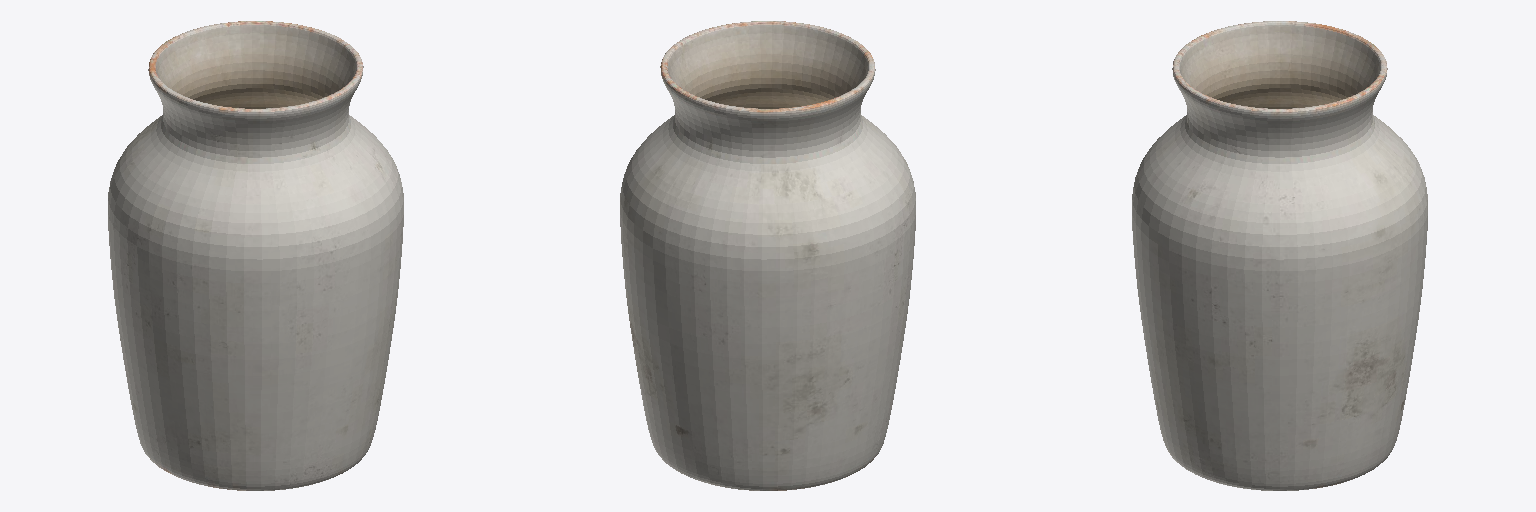
The picture shows the model from 3 angles: view 1: azimuth 30°, elevation 25°; view 2: azimuth 150°, elevation 25°; view 3: azimuth 270°, elevation 25°; orthographic projection.
Visible parts, largest first — view 1: ceramic_vase_02; view 2: ceramic_vase_02; view 3: ceramic_vase_02.
Boxes of the visible parts, box(x1,y1,x2,y2) form: ceramic_vase_02: box(108, 21, 403, 490); ceramic_vase_02: box(620, 21, 915, 490); ceramic_vase_02: box(1132, 21, 1427, 490).
Size of the model in its own units: 0.2184 by 0.3092 by 0.2184.
1 materials, 1 textured.